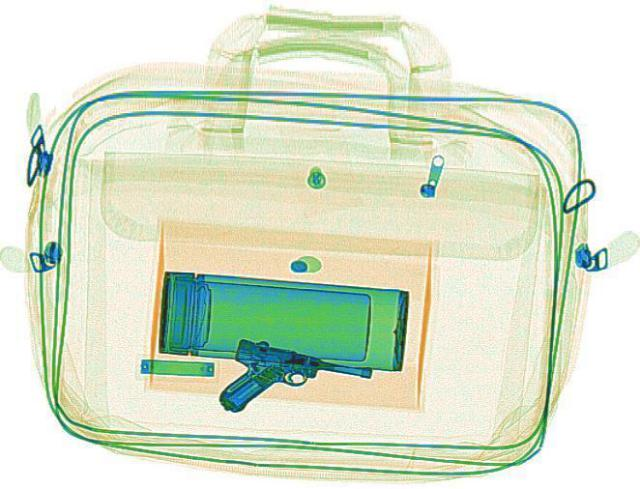Gun: (207, 333, 375, 435)
